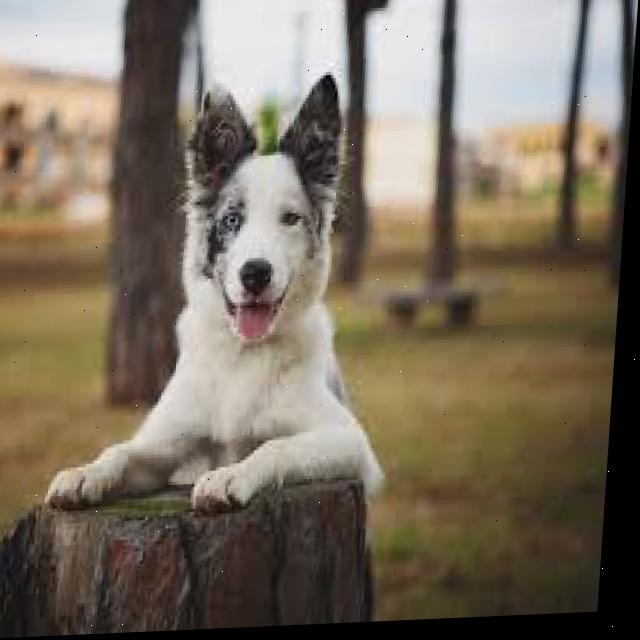BORDER_COLLIE: (32, 56, 434, 554)
